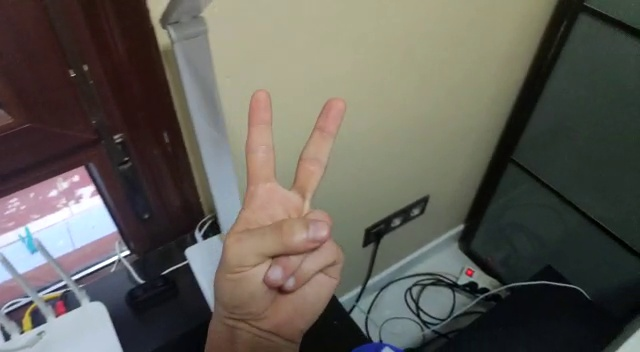Peace: (210, 84, 351, 332)
